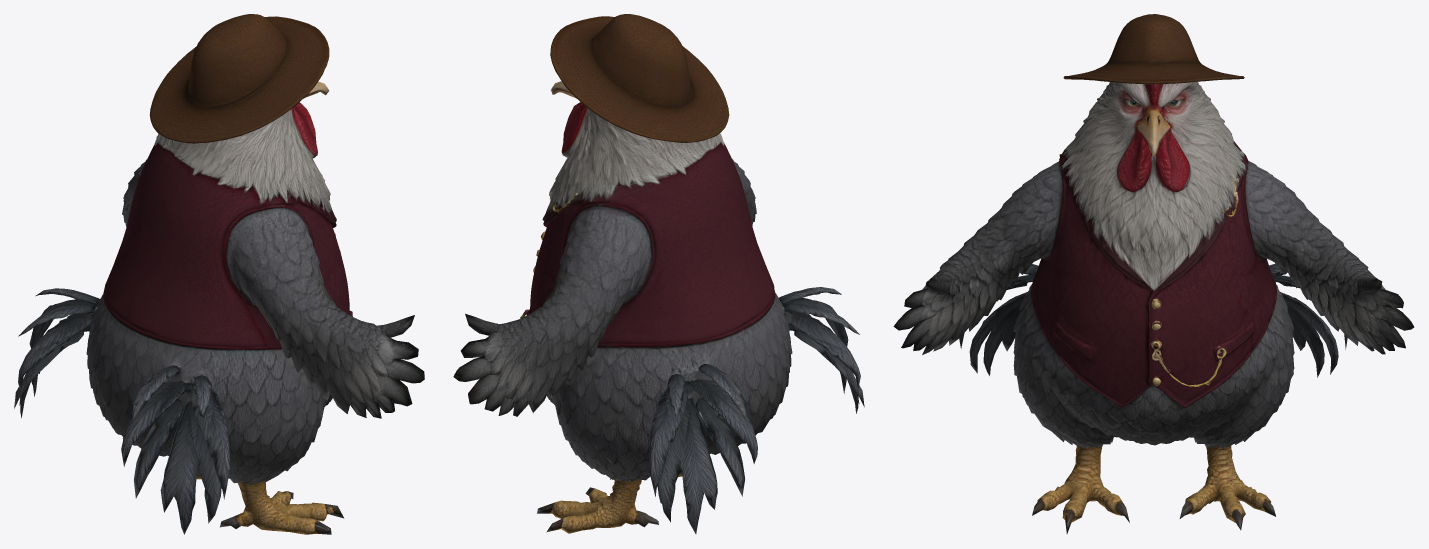
The model's file is donGallo.glb.
3 renders of one model, left to right at view 1: azimuth 30°, elevation 25°; view 2: azimuth 150°, elevation 25°; view 3: azimuth 270°, elevation 25°, orthographic.
Parts seen in each view (by area): view 1: tripo_node_48a8717c-f349-4aee-b62f-78b68bdec112; view 2: tripo_node_48a8717c-f349-4aee-b62f-78b68bdec112; view 3: tripo_node_48a8717c-f349-4aee-b62f-78b68bdec112.
Boxes of the visible parts, x1,y1,x2,y2 form: tripo_node_48a8717c-f349-4aee-b62f-78b68bdec112: (14,14,424,534); tripo_node_48a8717c-f349-4aee-b62f-78b68bdec112: (453,14,864,534); tripo_node_48a8717c-f349-4aee-b62f-78b68bdec112: (893,14,1414,533).
Size of the model in its own units: 0.4753 by 0.8 by 0.7727.
Materials: 1 (1 with a texture image).
